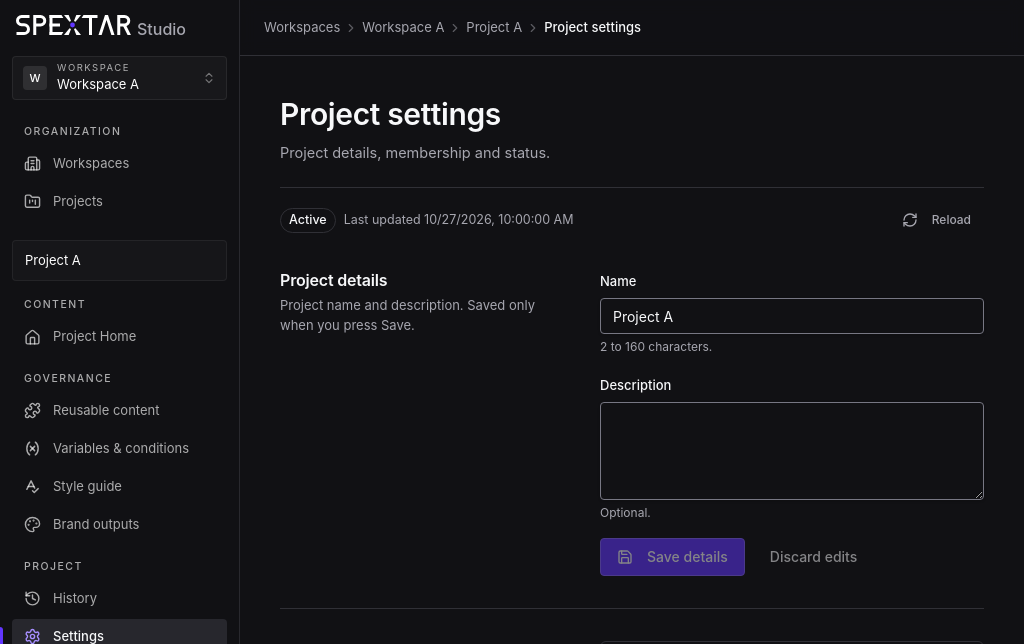
Test: Project Settings route › validates details, saves server metadata and updates breadcrumbs without route change
Replace the text in the field with test id "input-name" with "X" at (792, 316), box [600, 298, 984, 334]
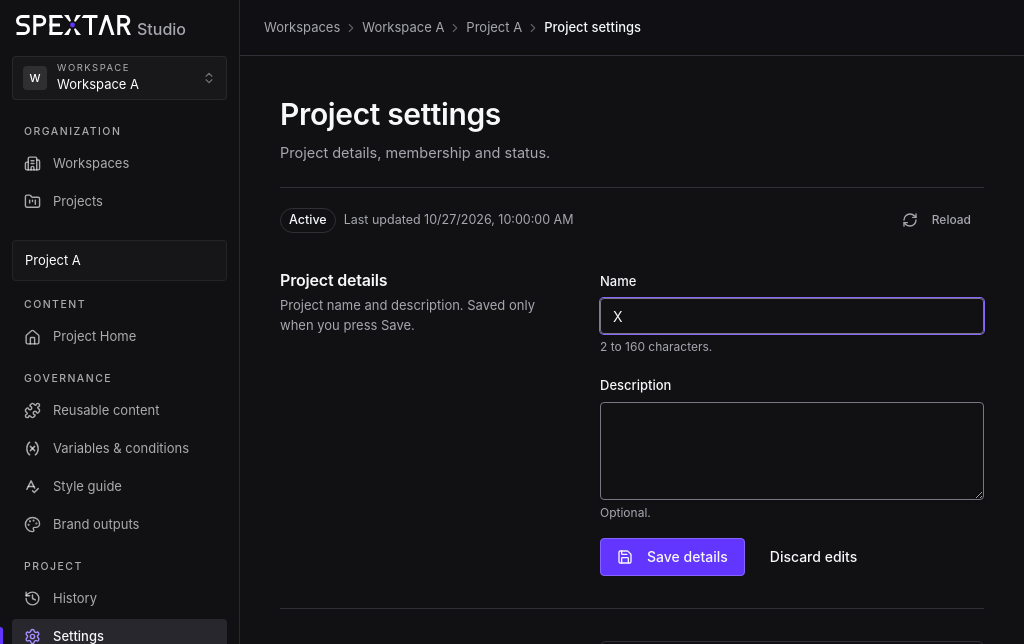
Click the button with test id "button-save-details".
click(672, 557)  # box [600, 538, 745, 576]
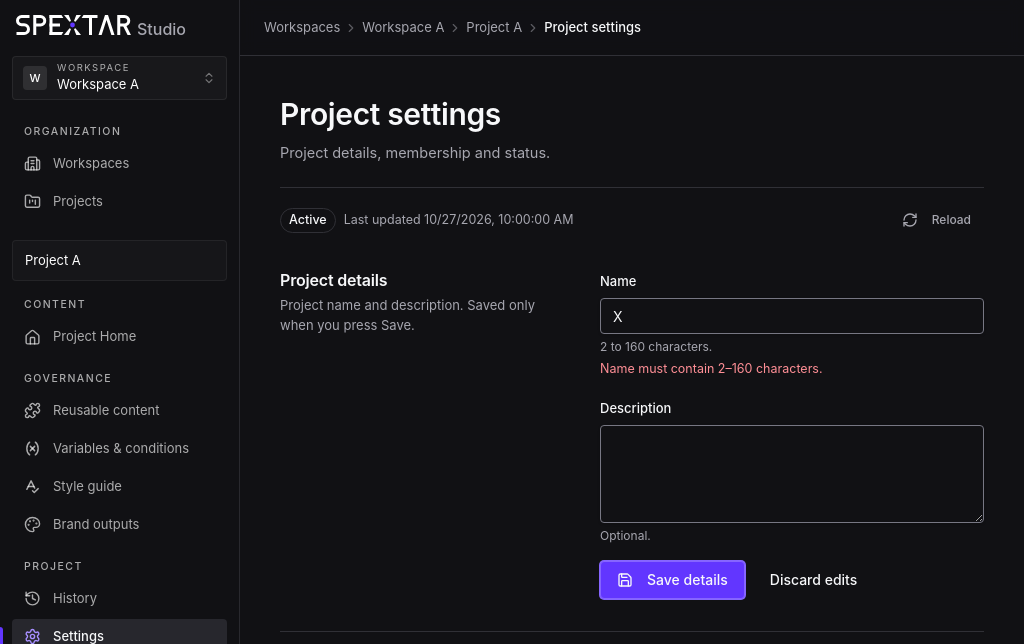
expect the text with test id "error-name" shows "2–160": met, box [600, 361, 822, 376]
Replace the text in the field with test id "input-name" with "Updated project" at (792, 316), box [600, 298, 984, 334]
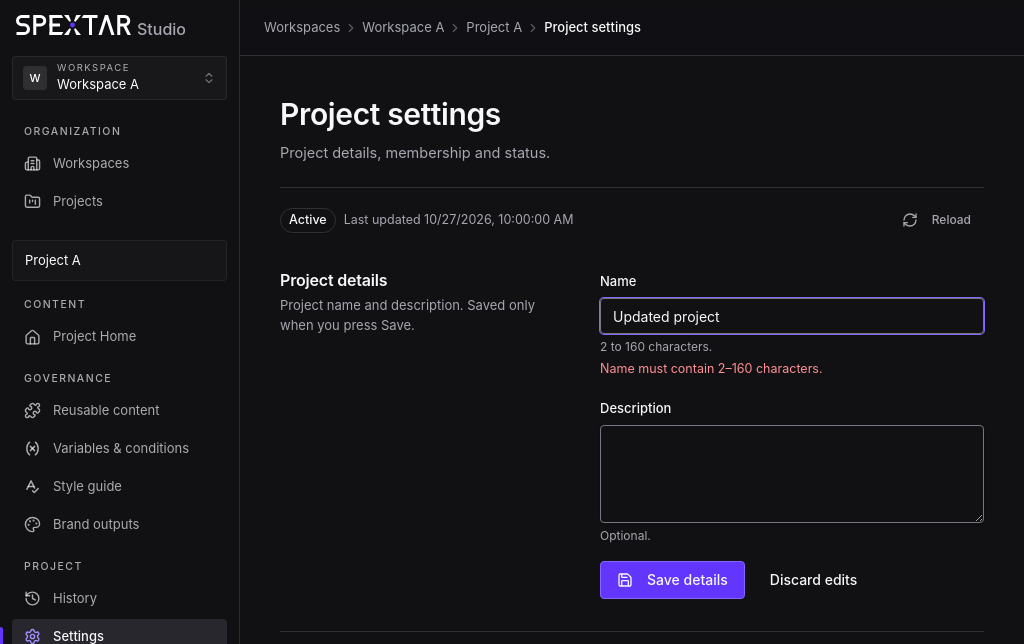
Click the button with test id "button-save-details".
click(672, 580)  # box [600, 561, 745, 599]
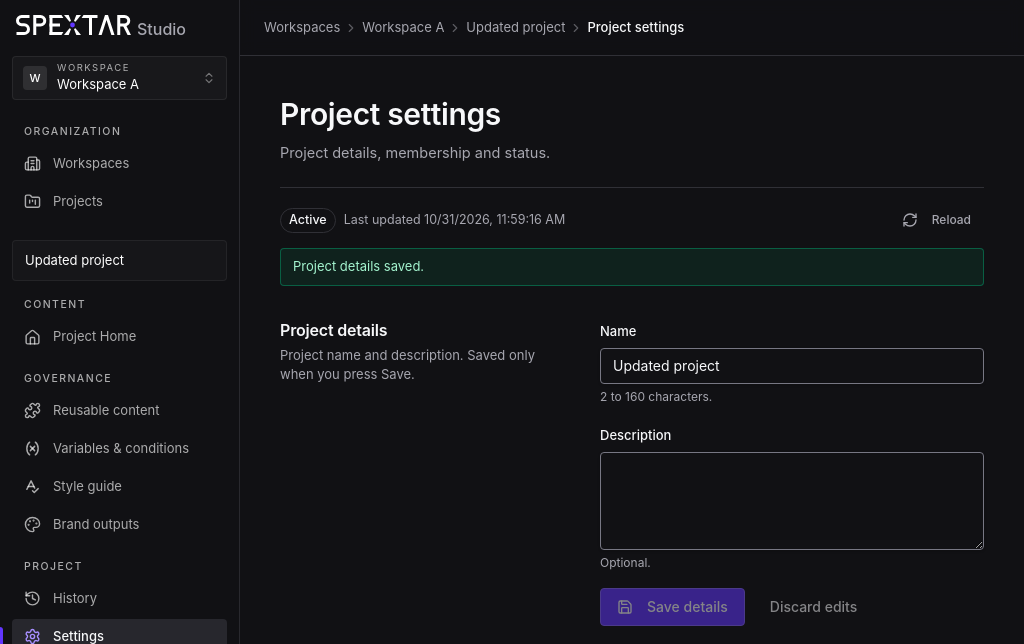
expect the text with test id "status-success" shows "Project details saved": met, box [293, 258, 424, 274]
expect the button with test id "button-save-details" is disabled: met, box [600, 588, 745, 626]
expect the text "Updated project" is shown: met, box [25, 252, 124, 268]
